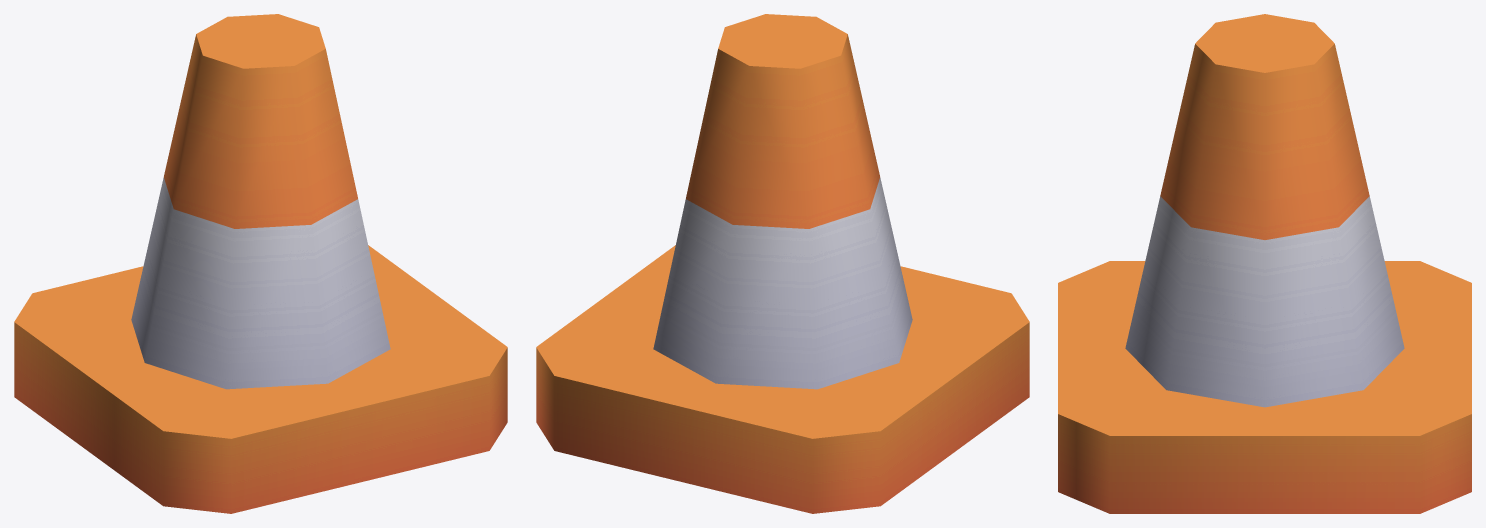
Rendered from item-cone.glb.
3 views of the same model, side by side, from view 1: azimuth 30°, elevation 25°; view 2: azimuth 150°, elevation 25°; view 3: azimuth 270°, elevation 25° (orthographic). The views are drawn at different scales.
Parts seen in each view (by area): view 1: item-cone; view 2: item-cone; view 3: item-cone.
Boxes of the visible parts, x1,y1,x2,y2 form: item-cone: (14, 14, 507, 513); item-cone: (536, 14, 1029, 513); item-cone: (1058, 14, 1471, 513).
Size of the model in its own units: 0.72 by 0.7355 by 0.72.
1 material, 1 textured.
